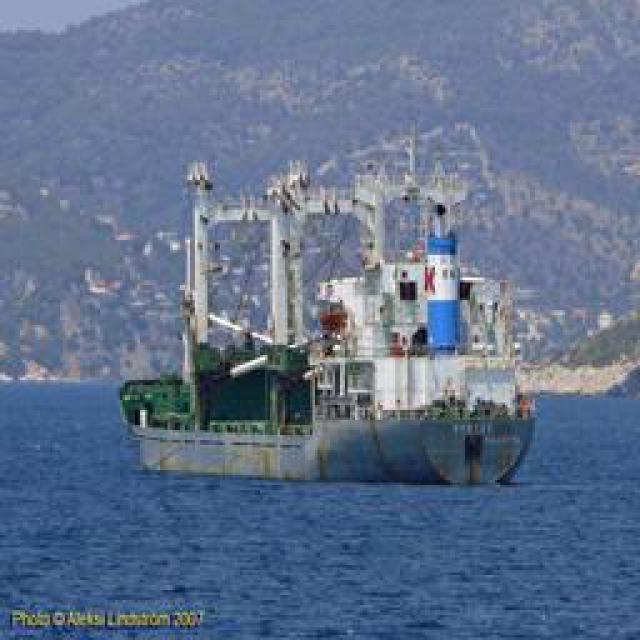Ship: (131, 380, 536, 488)
